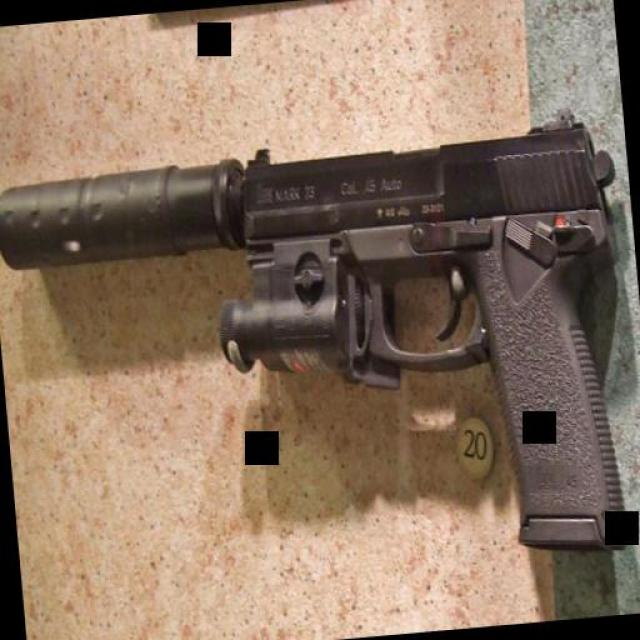gun: (0, 103, 640, 605)
